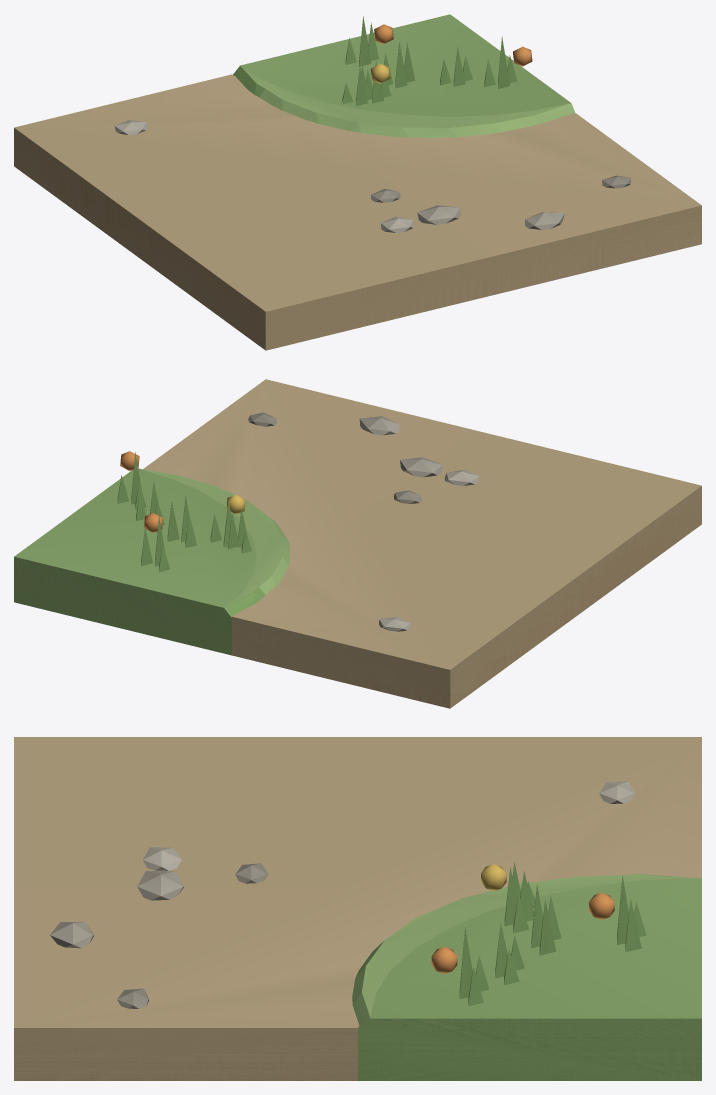
Rendered from terrain.path.inner.glb.
3 views of the same model, one above another, from view 1: azimuth 30°, elevation 25°; view 2: azimuth 150°, elevation 25°; view 3: azimuth 270°, elevation 25° (orthographic). The views are drawn at different scales.
Visible parts, largest first — view 1: terrain.path.inner.v0.mesh, terrain.path.inner.v1.mesh, terrain.path.inner.v2.mesh; view 2: terrain.path.inner.v0.mesh, terrain.path.inner.v2.mesh, terrain.path.inner.v1.mesh; view 3: terrain.path.inner.v0.mesh, terrain.path.inner.v1.mesh, terrain.path.inner.v2.mesh.
Boxes of the visible parts, x1,y1,x2,y2 form: terrain.path.inner.v0.mesh: [14, 14, 701, 350]; terrain.path.inner.v1.mesh: [14, 47, 701, 350]; terrain.path.inner.v2.mesh: [14, 16, 701, 348]; terrain.path.inner.v0.mesh: [14, 379, 701, 708]; terrain.path.inner.v2.mesh: [14, 416, 701, 707]; terrain.path.inner.v1.mesh: [14, 470, 701, 708]; terrain.path.inner.v0.mesh: [14, 737, 701, 1080]; terrain.path.inner.v1.mesh: [14, 781, 701, 1080]; terrain.path.inner.v2.mesh: [14, 862, 701, 1080].
Size of the model in its own units: 1 by 0.211 by 1.
